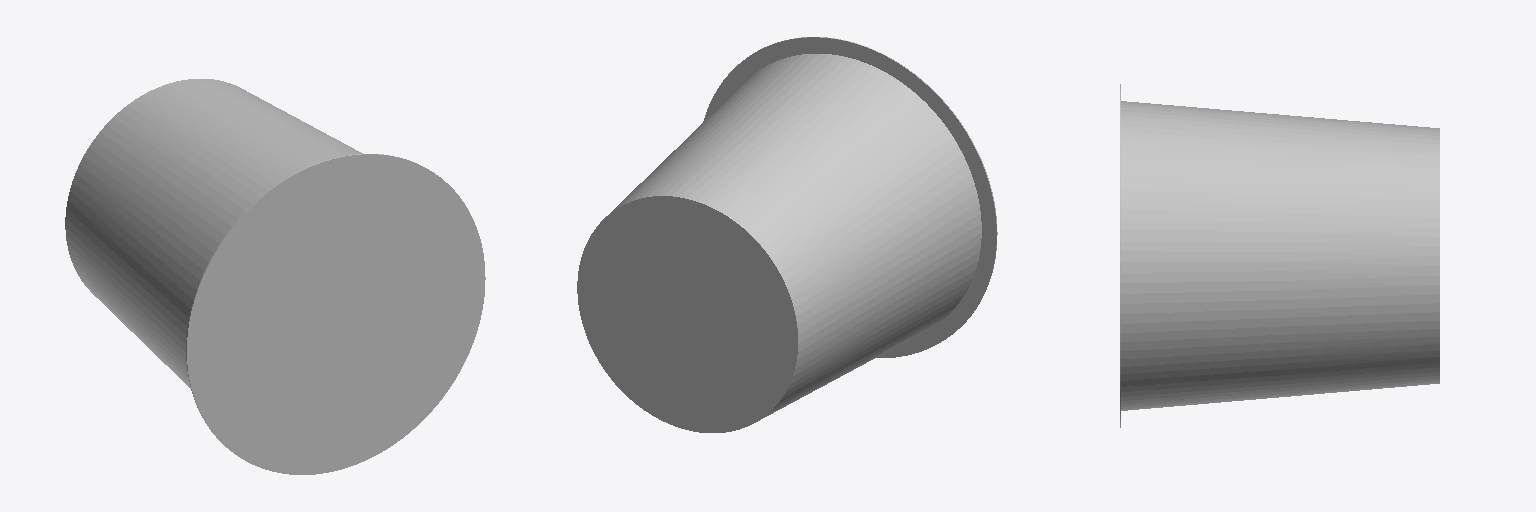
File: k_cup.obj
The picture shows the model from 3 angles: view 1: azimuth 30°, elevation 25°; view 2: azimuth 150°, elevation 25°; view 3: azimuth 270°, elevation 25°; orthographic projection.
Visible parts, largest first — view 1: K_cup_v1; view 2: K_cup_v1; view 3: K_cup_v1.
Boxes of the visible parts, x1,y1,x2,y2 form: K_cup_v1: [65, 79, 485, 474]; K_cup_v1: [577, 37, 997, 432]; K_cup_v1: [1120, 84, 1439, 427].
Bounding box in the file's own units: 0.05 × 0.05 × 0.0465.